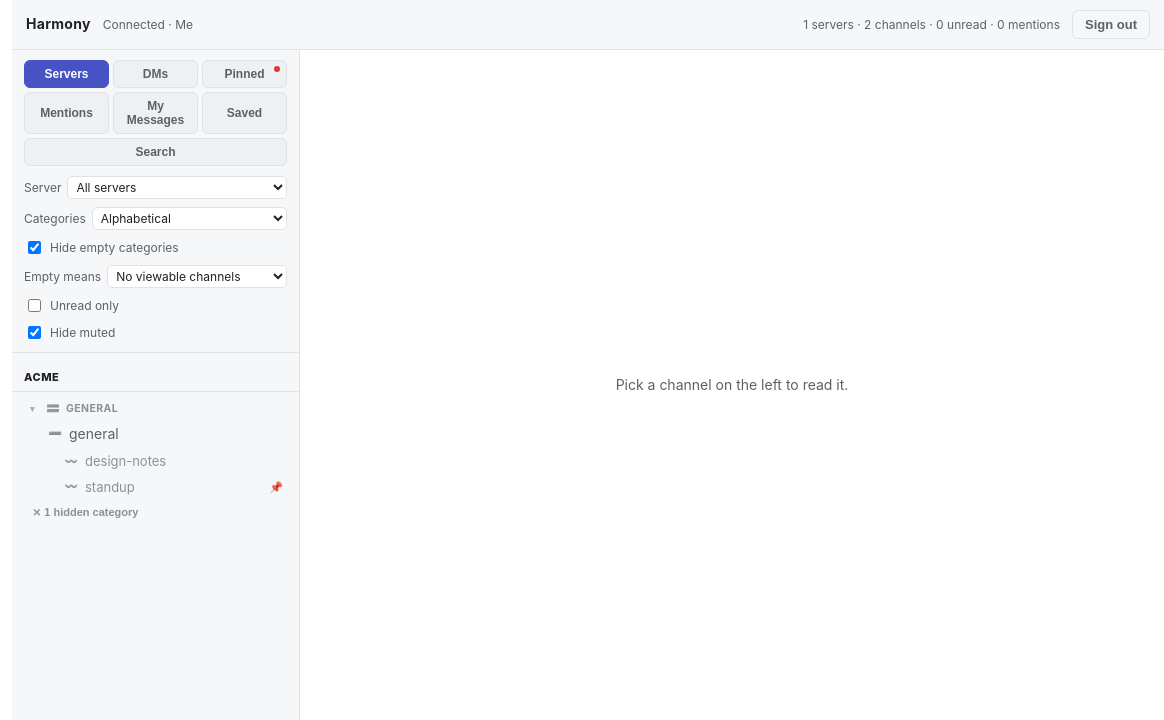
Test: sidebar mode switch › shows Servers, DMs and Pinned, and switches views
The image size is (1164, 720).
Expected: the text "general" is shown, x1=69 y1=425 x2=119 y2=442
Expected: the button "Servers" is shown, x1=24 y1=60 x2=109 y2=88
Click the button "Pinned".
click(244, 74)  # box x1=202 y1=60 x2=287 y2=88
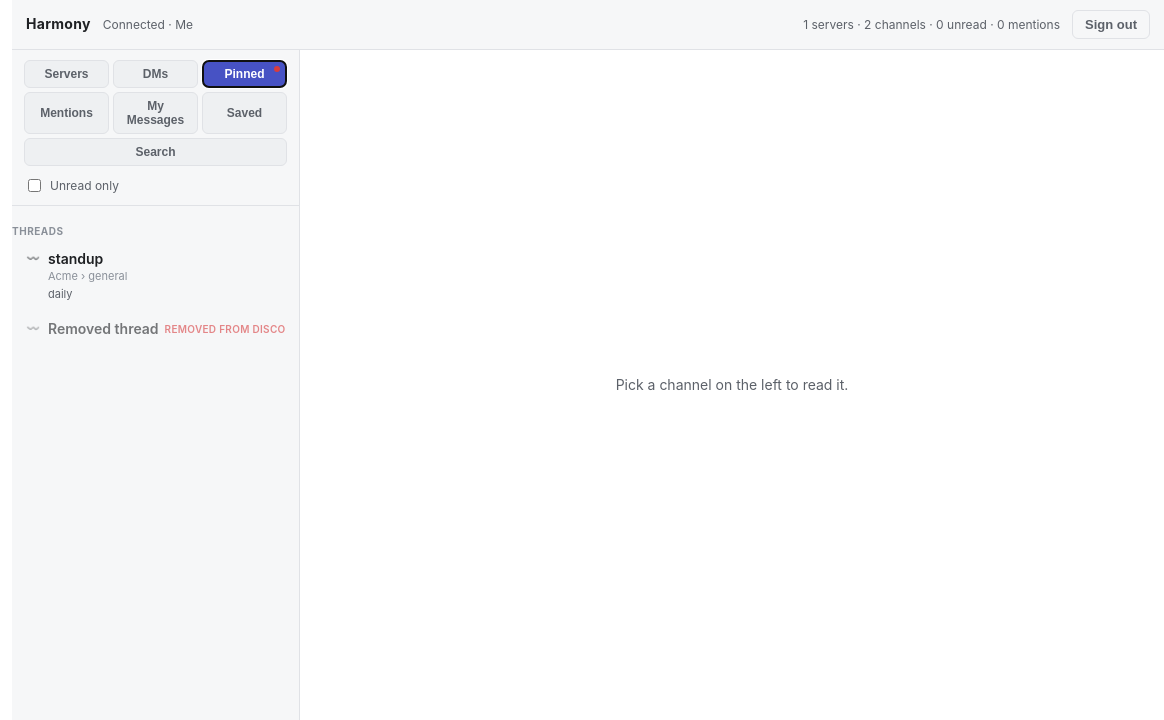
Expected: the text "standup" is shown, x1=48 y1=250 x2=103 y2=266
Now the text "removed from Discord" is shown, box x1=165 y1=322 x2=285 y2=336
Click the button "DMs".
click(156, 74)  # box x1=113 y1=60 x2=198 y2=88
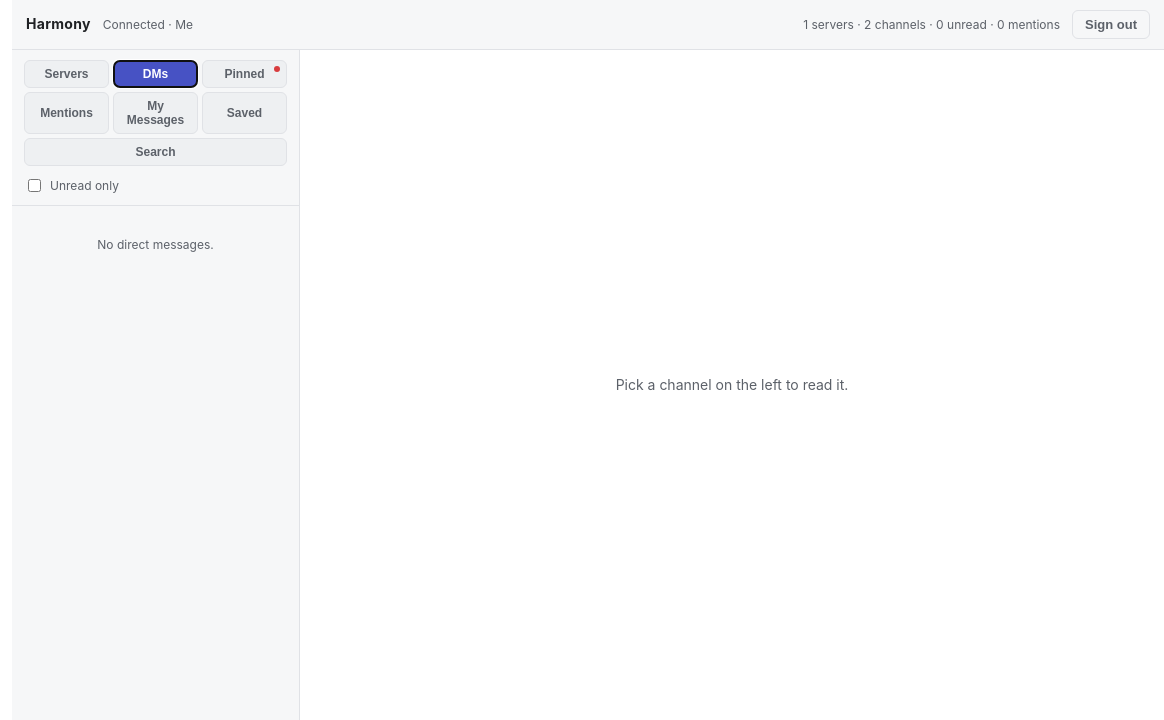
Now the text "No direct messages." is shown, box x1=97 y1=237 x2=214 y2=252
